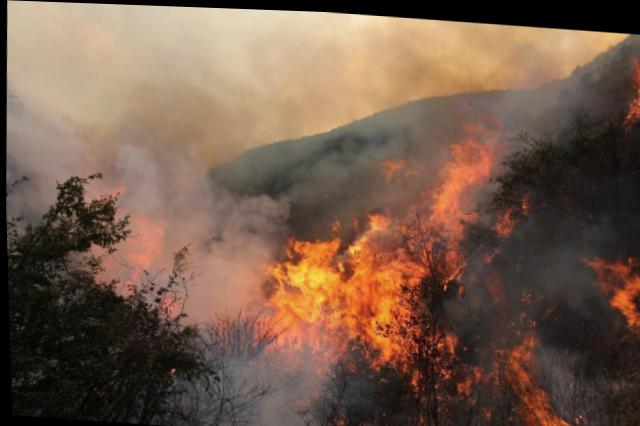fire: (252, 92, 603, 423), (593, 250, 639, 332), (621, 50, 639, 117)
